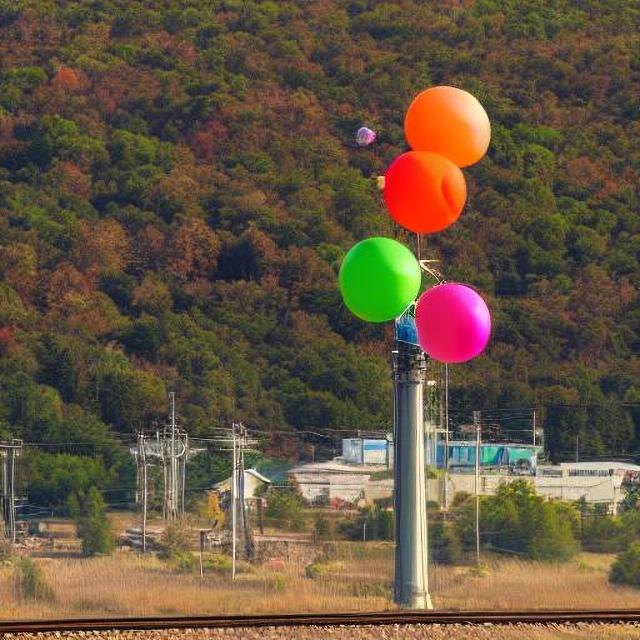balloon: (343, 85, 490, 350), (375, 88, 492, 231), (395, 84, 491, 178), (334, 234, 419, 322), (378, 146, 466, 230), (411, 279, 492, 360)
floating object: (197, 486, 229, 530)
